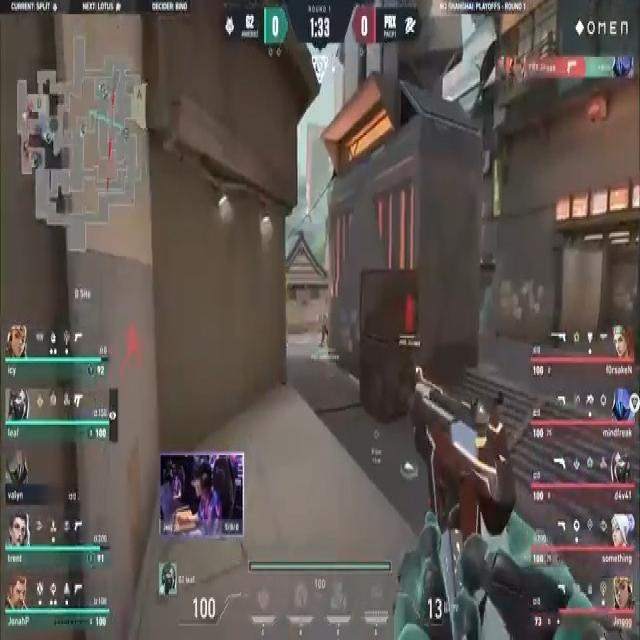enemy: (320, 308, 330, 349)
